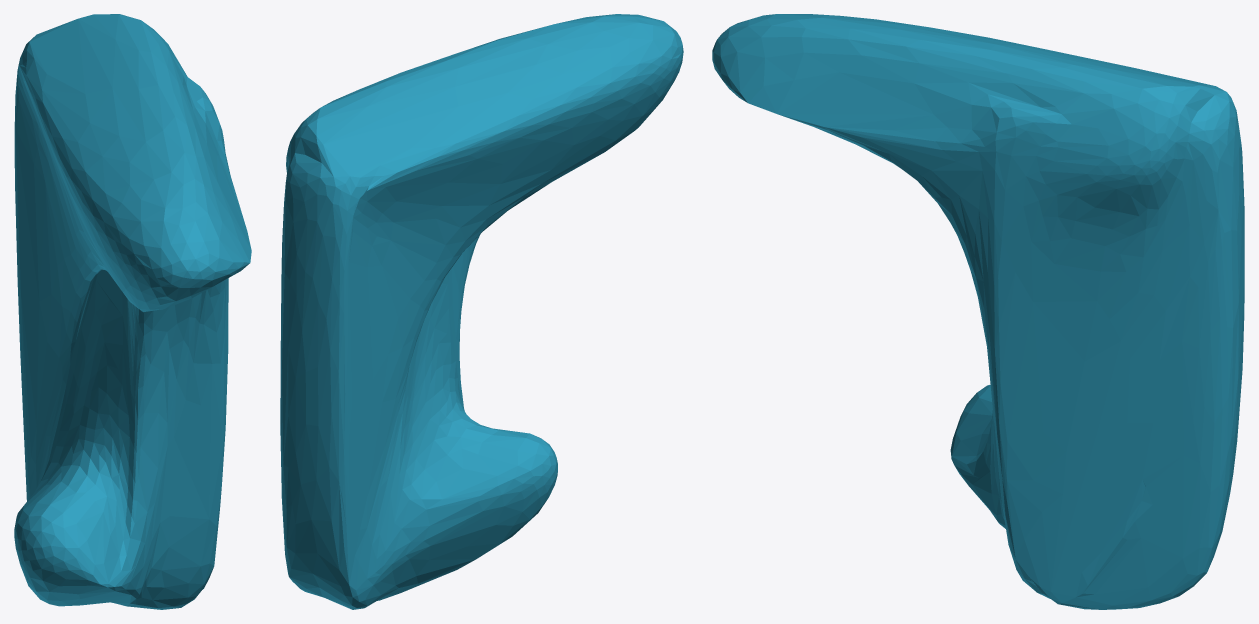
3 views of the same model, side by side, from view 1: azimuth 30°, elevation 25°; view 2: azimuth 150°, elevation 25°; view 3: azimuth 270°, elevation 25° (orthographic). The views are drawn at different scales.
Parts seen in each view (by area): view 1: 817_Cube.3292; view 2: 817_Cube.3292; view 3: 817_Cube.3292.
Boxes of the visible parts, x1,y1,x2,y2 form: 817_Cube.3292: (14,14,251,609); 817_Cube.3292: (280,14,683,609); 817_Cube.3292: (712,14,1244,609).
Size of the model in its own units: 5.78 by 13.08 by 11.83.
